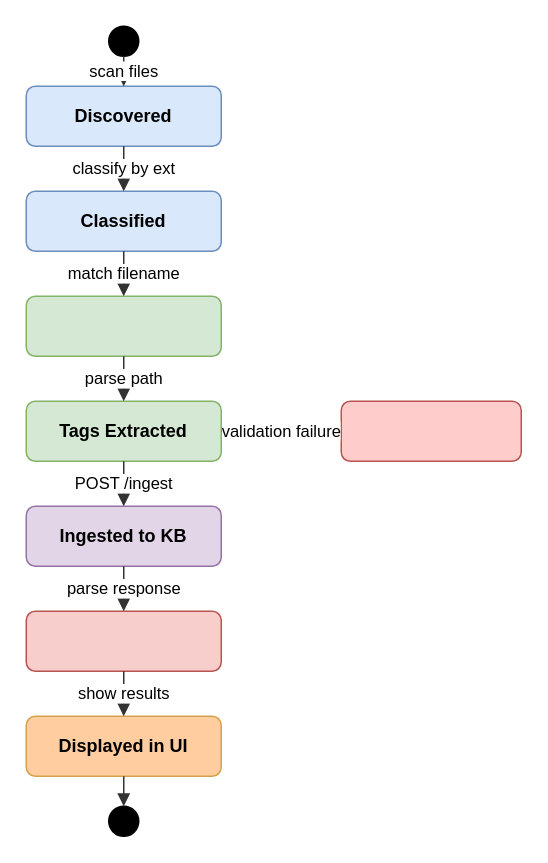
Image size: 548x863. Some labels were removed from this diagram. The shapes that lost their labels are listed below. From the top down, each one's box as (x1, y1, x2, y2) in pixels, then its label:
(25, 295, 221, 356): Type Derived
(340, 400, 521, 461): Error / Skipped
(25, 610, 221, 671): Verified
